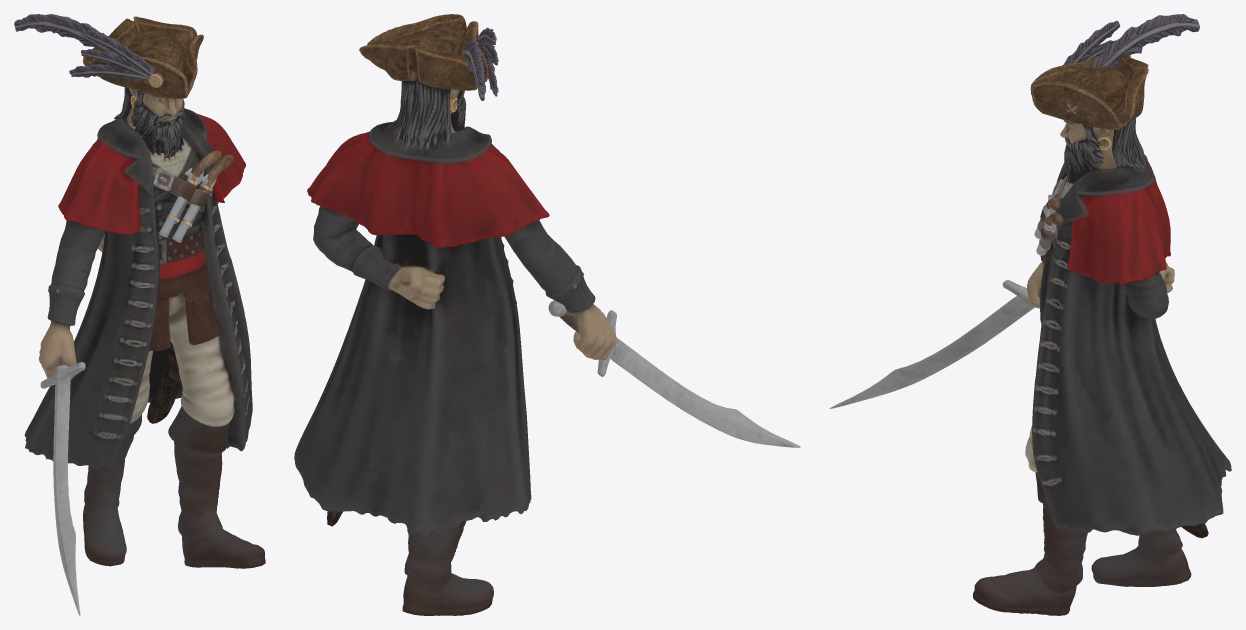
The model's file is MZ4250 - Pirate Captain Male.glb.
The picture shows the model from 3 angles, left to right: view 1: azimuth 30°, elevation 25°; view 2: azimuth 150°, elevation 25°; view 3: azimuth 270°, elevation 25°; orthographic projection. The views are drawn at different scales.
Visible parts, largest first — view 1: Body.002; view 2: Body.002; view 3: Body.002.
Boxes of the visible parts, x1,y1,x2,y2 form: Body.002: [14, 14, 265, 615]; Body.002: [294, 14, 800, 615]; Body.002: [829, 14, 1231, 615].
Size of the model in its own units: 57.97 by 95.08 by 62.93.
Materials: 11 (11 with a texture image).
